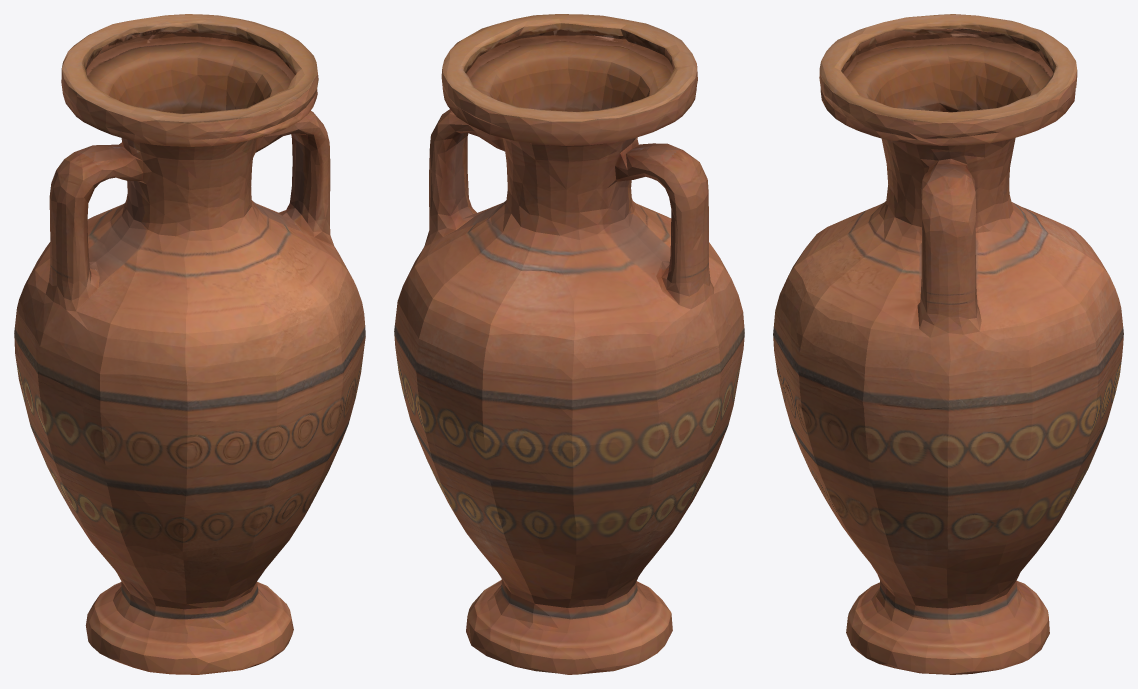
File: Create_a_detailed__0505200233_texture.fbx
3 views of the same model, side by side, from view 1: azimuth 30°, elevation 25°; view 2: azimuth 150°, elevation 25°; view 3: azimuth 270°, elevation 25° (orthographic).
Parts seen in each view (by area): view 1: temp; view 2: temp; view 3: temp.
Boxes of the visible parts, left/top/right/bottom form: temp: left=14, top=14, right=365, bottom=674; temp: left=394, top=14, right=744, bottom=674; temp: left=773, top=14, right=1123, bottom=674.
Size of the model in its own units: 112 by 200 by 112.
Materials: 1 (1 with a texture image).
